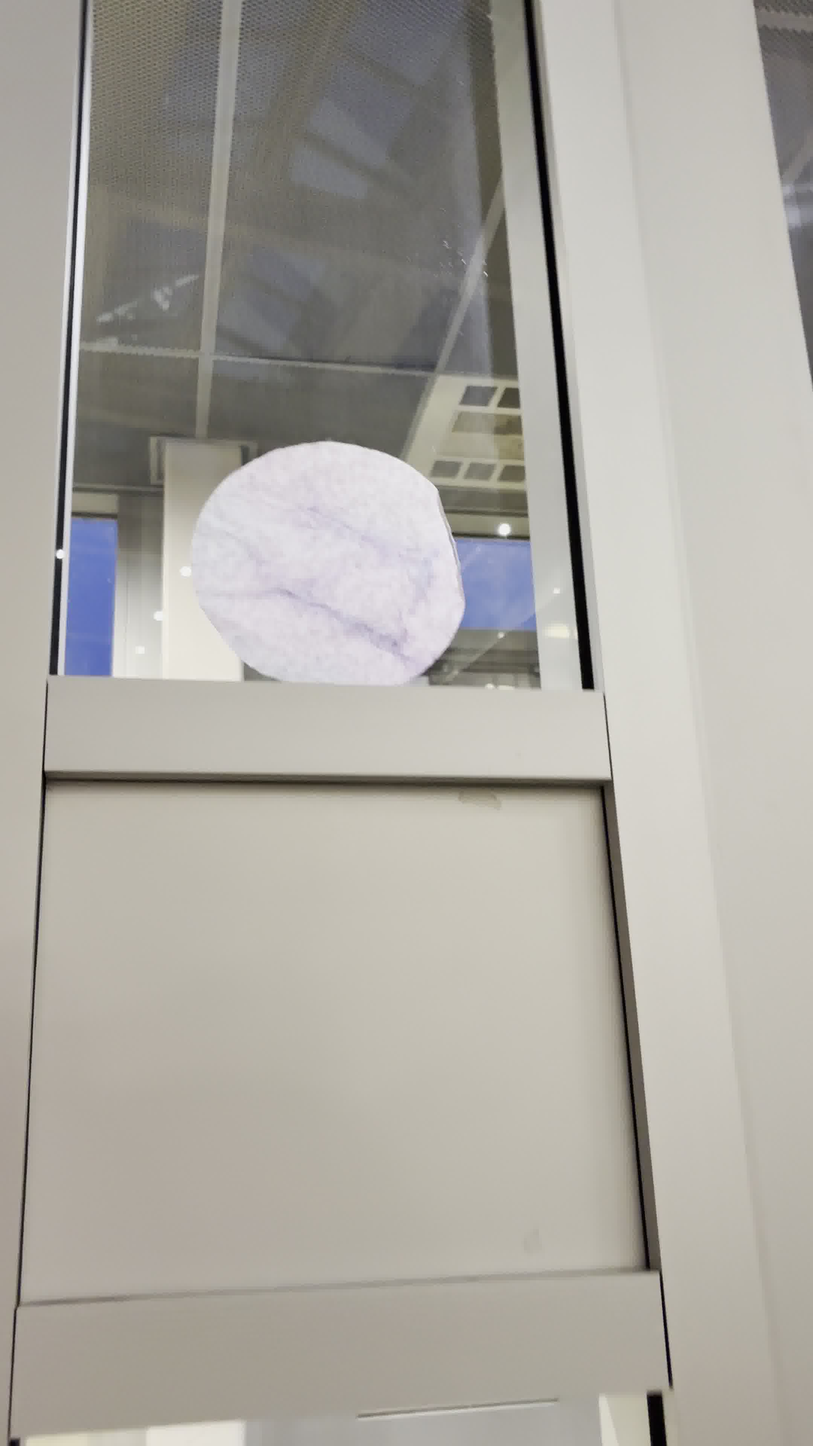Target: (186, 438, 463, 692)
